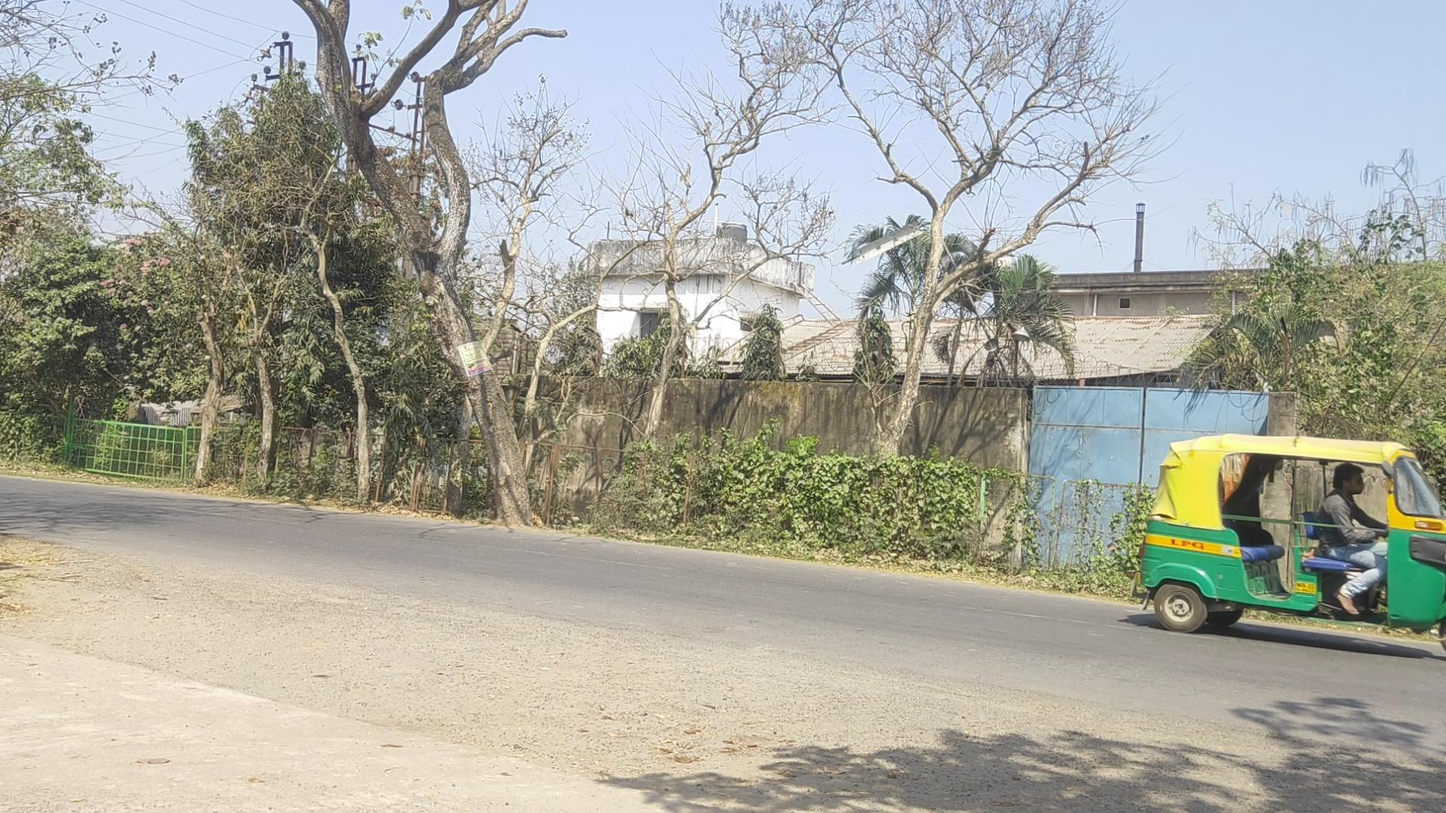Auto: (1133, 433, 1446, 661)
